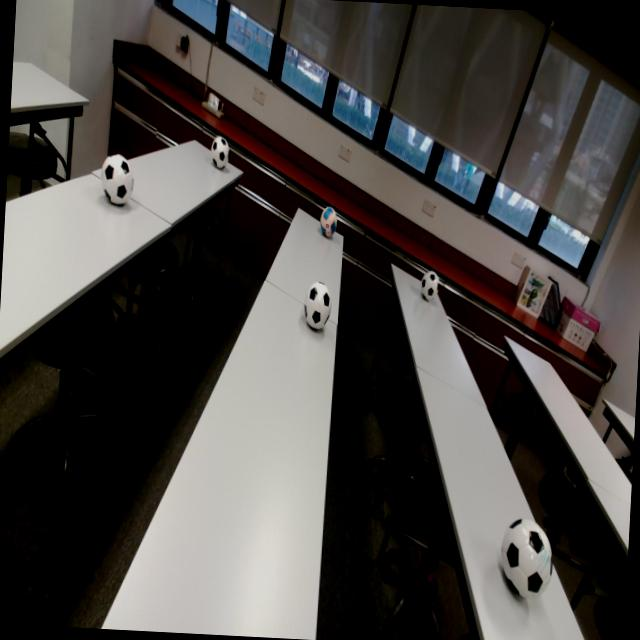Soccer Ball: (500, 518, 555, 600), (101, 155, 134, 205), (302, 282, 332, 332), (321, 202, 338, 237), (210, 137, 229, 168), (421, 270, 439, 301)
